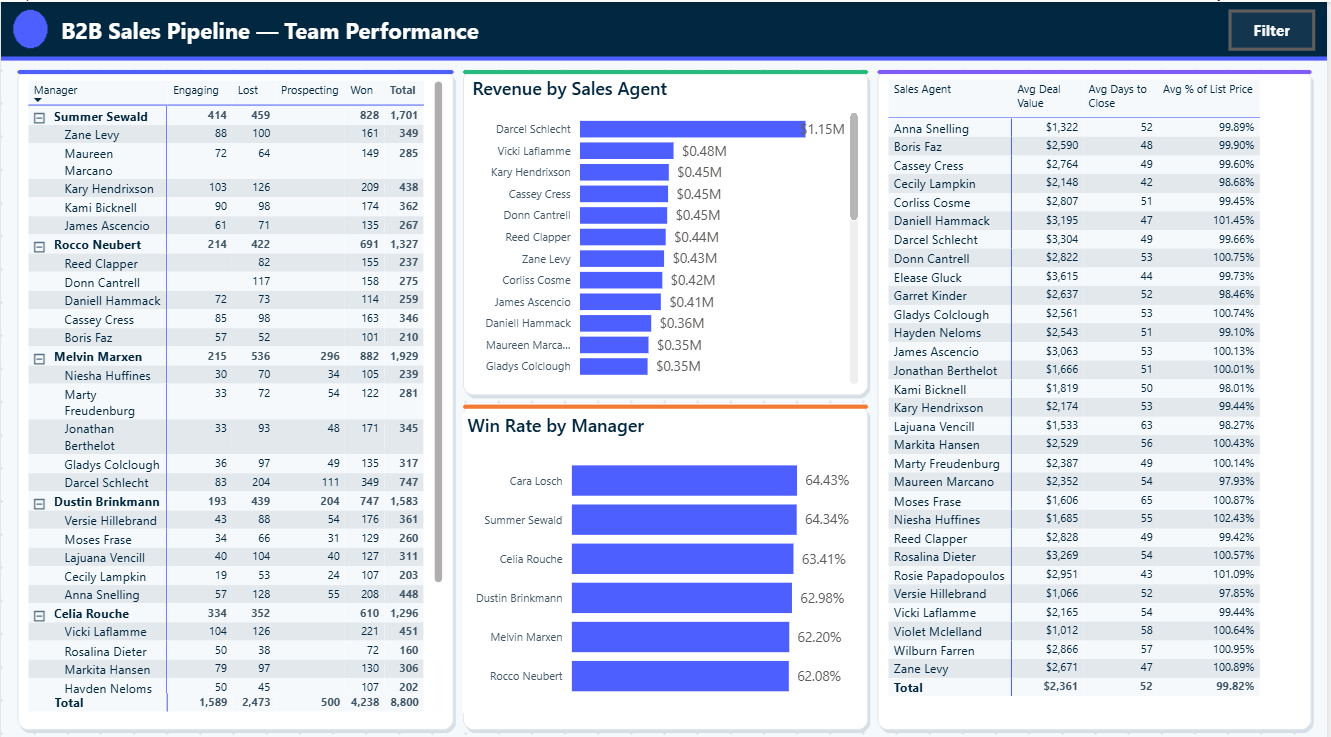

The page's visual inventory and layout, read from the dashboard file:
{"tool":"powerbi","page":{"name":"Team Performance","canvas":[1280,720],"ordinal":1},"visuals":[{"type":"group","id":"g1","title":"Main page 2","box":[21.6,7.7,1236.6,684.1],"z":0},{"type":"pivotTable","fields":{"Rows":["vw_sales_gold.manager","vw_sales_gold.sales_agent"],"Columns":["vw_sales_gold.deal_stage"],"Values":["Table.Opp Count"]},"box":[21.6,72,410.2,618.9],"z":0,"group":"g1"},{"type":"clusteredBarChart","title":"Revenue by Sales Agent","fields":{"Category":["vw_sales_gold.sales_agent"],"Y":["Table.Total Revenue"]},"box":[449.9,71.6,382.4,302.8],"z":1000,"group":"g1"},{"type":"actionButton","box":[1184.2,6.9,83.7,39.8],"z":2000},{"type":"clusteredBarChart","title":"Win Rate by Manager","fields":{"Y":["Table.Win Rate"],"Category":["vw_sales_gold.manager"]},"box":[445.6,397.7,378.8,289.5],"z":2000,"group":"g1"},{"type":"textbox","box":[52.4,7.7,707,42.2],"z":3000,"group":"g1"},{"type":"pivotTable","fields":{"Rows":["vw_sales_gold.sales_agent"],"Values":["Table.Avg Deal Value","Table.Avg Days to Close","Table.Avg % of List Price"]},"box":[851.6,70.4,406.6,621.3],"z":4000,"group":"g1"}]}

Visuals, with their boxes in screenshot pixels (x1, y1, x2, y2), scaled from the page's 1280x720 canvas onto the 1331x737 screenshot:
"Main page 2" group: [x1=22, y1=8, x2=1308, y2=708]
pivotTable - vw_sales_gold.manager x vw_sales_gold.sales_agent: [x1=22, y1=74, x2=449, y2=707]
"Revenue by Sales Agent" clusteredBarChart: [x1=468, y1=73, x2=865, y2=383]
actionButton: [x1=1231, y1=7, x2=1318, y2=48]
"Win Rate by Manager" clusteredBarChart: [x1=463, y1=407, x2=857, y2=703]
textbox: [x1=54, y1=8, x2=790, y2=51]
pivotTable - vw_sales_gold.sales_agent x Table.Avg Deal Value: [x1=886, y1=72, x2=1308, y2=708]
